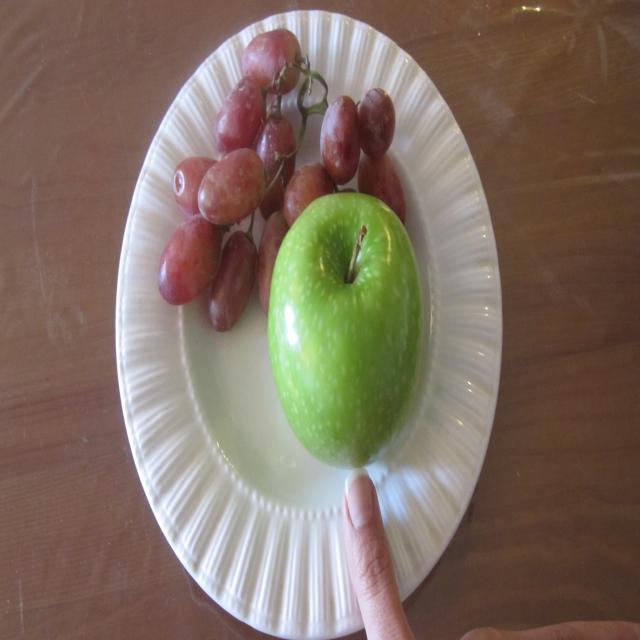apple: (281, 204, 440, 485)
grape: (123, 0, 273, 301)
